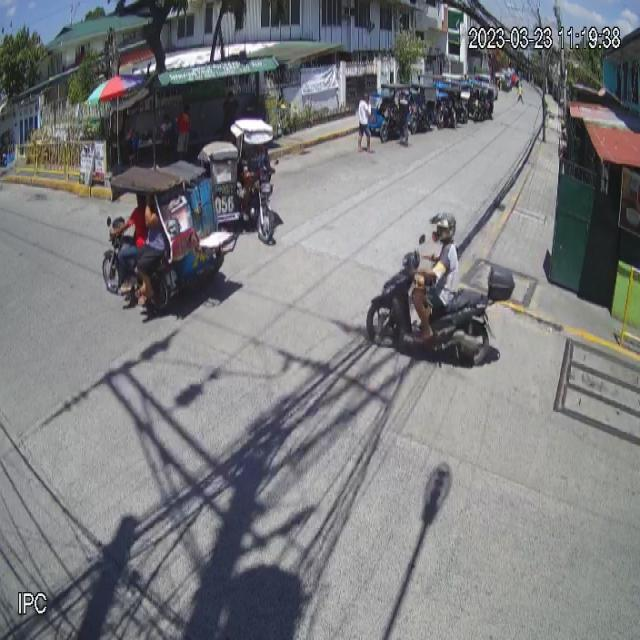Motorcycle: (364, 232, 516, 371)
Tricycle: (100, 159, 214, 322), (196, 119, 279, 246)
